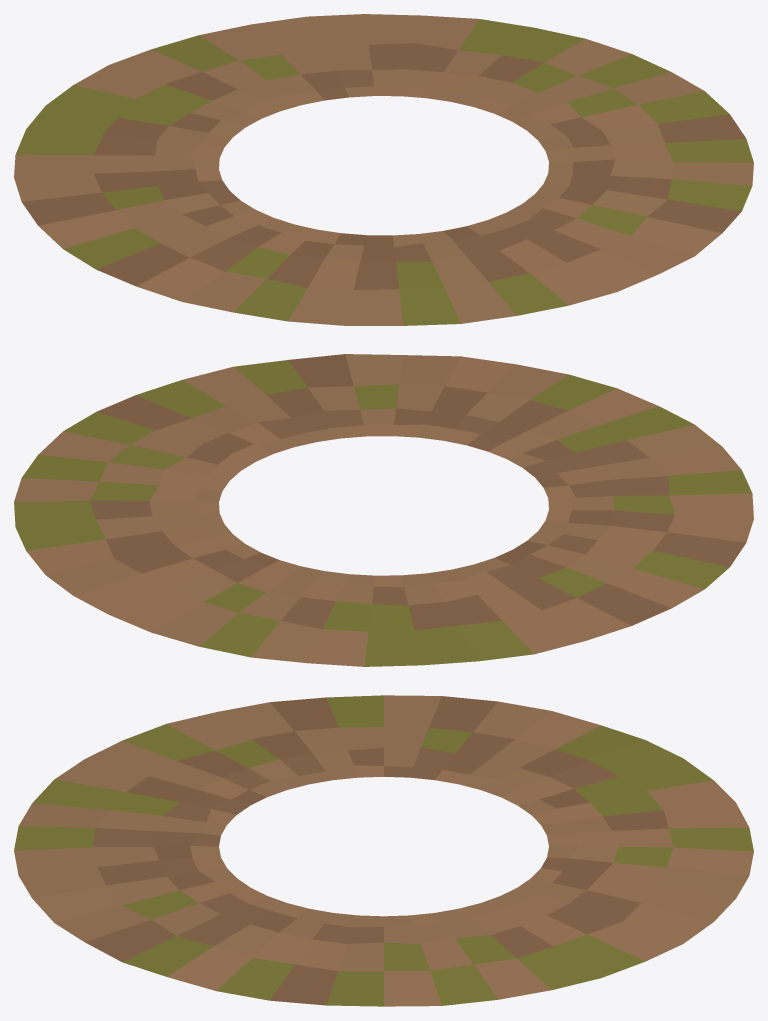
File: SM_PitRim.fbx
3 views of the same model, one above another, from view 1: azimuth 30°, elevation 25°; view 2: azimuth 150°, elevation 25°; view 3: azimuth 270°, elevation 25° (orthographic).
Parts seen in each view (by area): view 1: SM_PitRim; view 2: SM_PitRim; view 3: SM_PitRim.
Boxes of the visible parts, x1,y1,x2,y2 form: SM_PitRim: (14, 14, 753, 325); SM_PitRim: (14, 354, 753, 666); SM_PitRim: (14, 695, 753, 1006).
Bounding box in the file's own units: 100 × 100 × 1.
